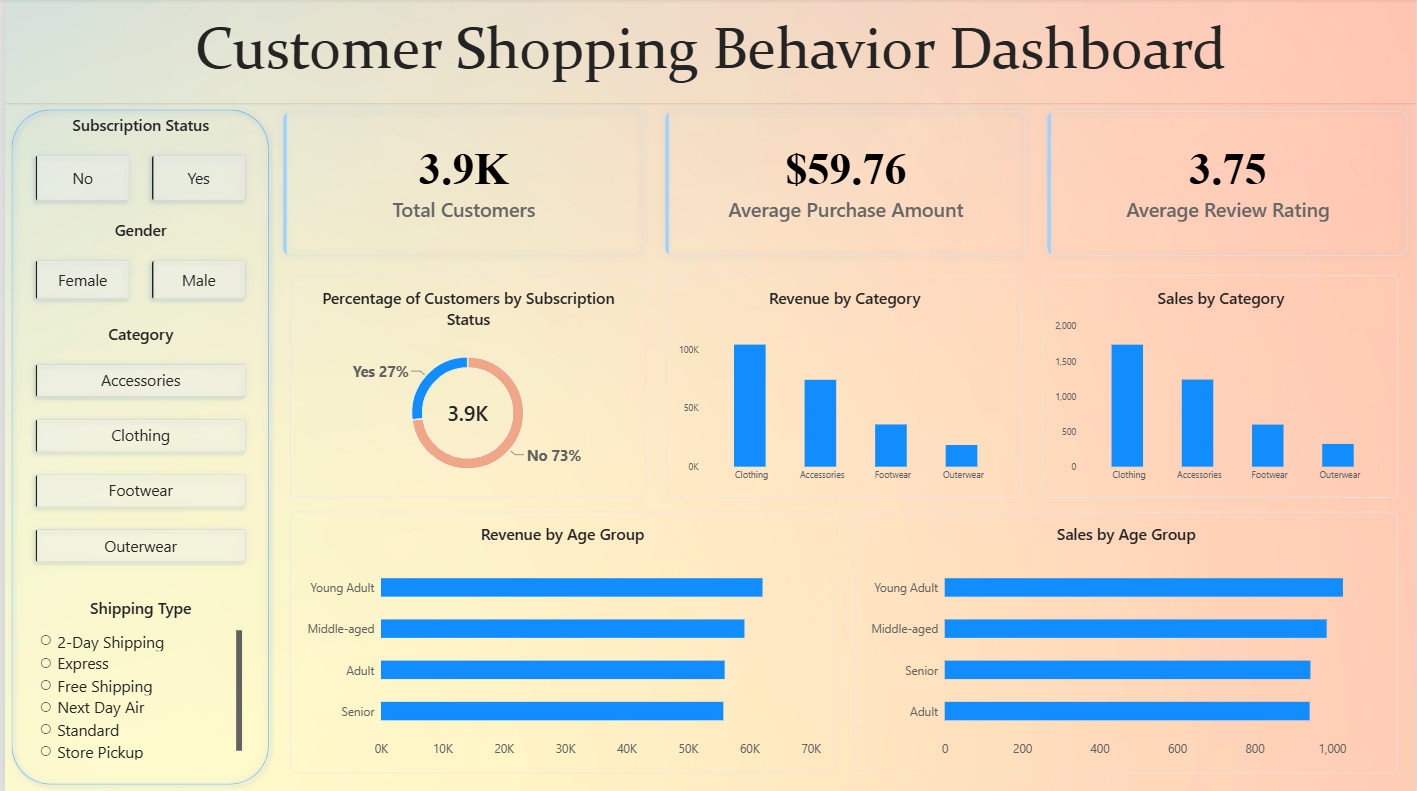

What the dashboard file says about the page in this screenshot:
{"tool":"powerbi","page":{"name":"Page 1","canvas":[1920,1080],"ordinal":0},"visuals":[{"type":"cardVisual","fields":{"Data":["clean_data.Total Customers","clean_data.Average Purchase Amount","clean_data.Average Review Rating"]},"box":[368,143,1552.3,219.8],"z":0},{"type":"shape","box":[0,0,1920.4,143],"z":1000},{"type":"textbox","box":[0,19.2,1920.4,181.4],"z":2000},{"type":"donutChart","title":"Percentage of Customers by Subscription Status","fields":{"Category":["clean_data.subscription_status"],"Y":["CountNonNull(clean_data.customer_id)"]},"box":[388,378,484,302],"z":3000},{"type":"clusteredColumnChart","title":"Revenue by Category","fields":{"Category":["clean_data.category"],"Y":["Sum(clean_data.purchase_amount)"]},"box":[900,378,484,302],"z":4000},{"type":"clusteredColumnChart","title":"Sales by Category","fields":{"Category":["clean_data.category"],"Y":["CountNonNull(clean_data.customer_id)"]},"box":[1412,378,484,302],"z":5000},{"type":"shape","box":[0,143,368,936.6],"z":6000},{"type":"advancedSlicerVisual","fields":{"Values":["clean_data.subscription_status"]},"box":[30,158.7,308,129.1],"z":7000},{"type":"advancedSlicerVisual","fields":{"Values":["clean_data.gender"]},"box":[30,301.7,308,120.3],"z":8000},{"type":"advancedSlicerVisual","fields":{"Values":["clean_data.category"]},"box":[30,443,308,338.4],"z":9000},{"type":"listSlicer","fields":{"Values":["clean_data.shipping_type"]},"box":[30,800.6,308,251.2],"z":9001},{"type":"clusteredBarChart","title":"Revenue by Age Group","fields":{"Category":["clean_data.age_group"],"Y":["Sum(clean_data.purchase_amount)"]},"box":[388,700,740,356],"z":9002},{"type":"clusteredBarChart","title":"Sales by Age Group","fields":{"Category":["clean_data.age_group"],"Y":["CountNonNull(clean_data.customer_id)"]},"box":[1156,700,740,356],"z":9003}]}

Visuals, with their boxes in screenshot pixels (x1, y1, x2, y2), scaled from the page's 1920x1080 canvas onto the 1417x791 screenshot:
cardVisual - clean_data.Total Customers x clean_data.Average Purchase Amount: locate(272, 105, 1416, 266)
shape: locate(0, 0, 1416, 105)
textbox: locate(0, 14, 1416, 147)
"Percentage of Customers by Subscription Status" donutChart: locate(286, 277, 644, 498)
"Revenue by Category" clusteredColumnChart: locate(664, 277, 1021, 498)
"Sales by Category" clusteredColumnChart: locate(1042, 277, 1399, 498)
shape: locate(0, 105, 272, 790)
advancedSlicerVisual - clean_data.subscription_status: locate(22, 116, 249, 211)
advancedSlicerVisual - clean_data.gender: locate(22, 221, 249, 309)
advancedSlicerVisual - clean_data.category: locate(22, 324, 249, 572)
listSlicer - clean_data.shipping_type: locate(22, 586, 249, 770)
"Revenue by Age Group" clusteredBarChart: locate(286, 513, 832, 773)
"Sales by Age Group" clusteredBarChart: locate(853, 513, 1399, 773)
